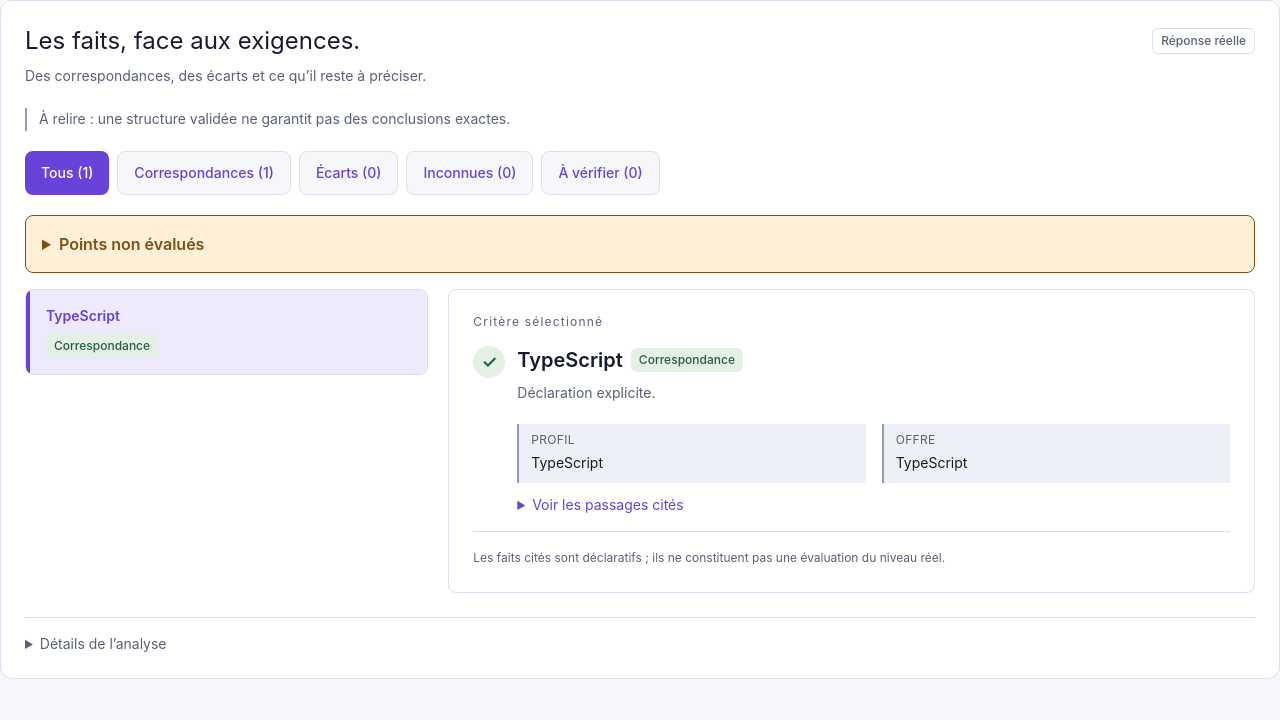
result filters keep omissions separate from candidate conclusions
The image size is (1280, 720).
Check: the heading "TypeScript" is shown, box [517,346,623,374]
Check: the heading "Points non évalués" is shown, box [59,234,204,254]
Step 1. Click the button "Inconnues (0)" → (470, 172), box [406,150,533,194]
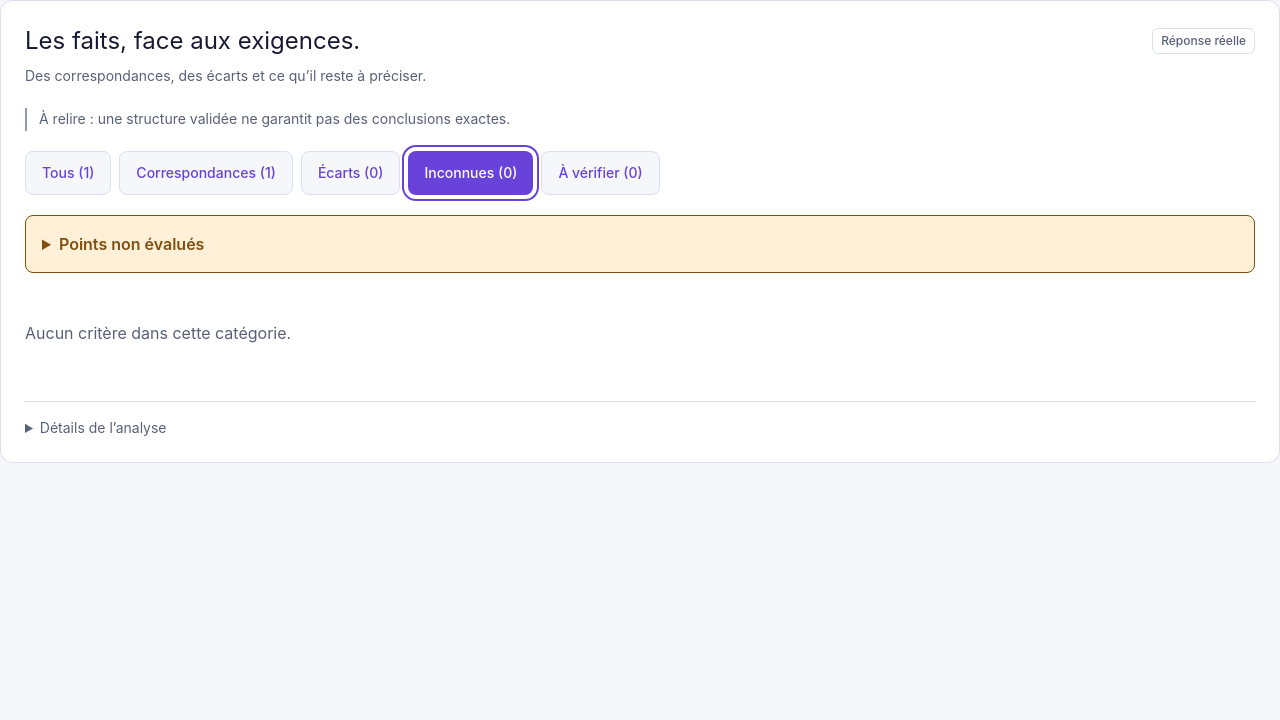
Check: the button "TypeScript" is gone
Step 2. Click the button "Correspondances (1)" → (206, 172), box [119,150,293,194]
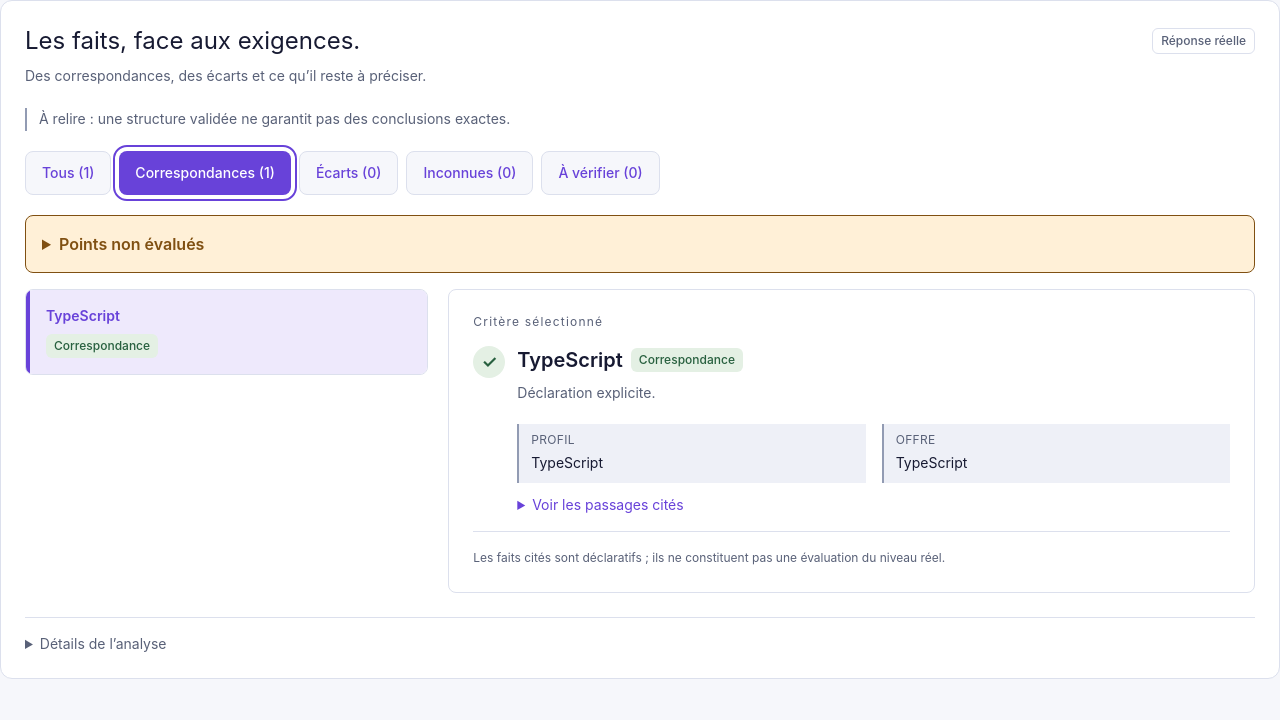
Check: the heading "TypeScript" is shown, box [517,346,623,374]
